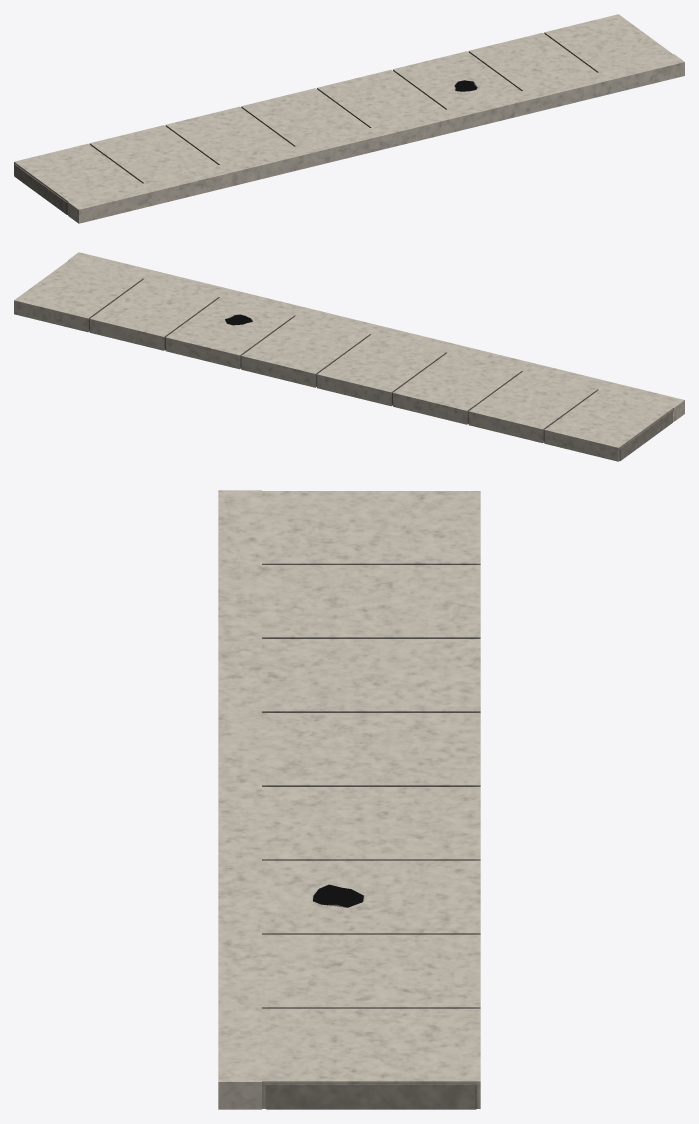
File: street_curb.fbx
The picture shows the model from 3 angles, top to bottom: view 1: azimuth 30°, elevation 25°; view 2: azimuth 150°, elevation 25°; view 3: azimuth 270°, elevation 25°; orthographic projection. The views are drawn at different scales.
Parts seen in each view (by area): view 1: Body; view 2: Body; view 3: Body.
Boxes of the visible parts, bbox=[...] form: Body: bbox=[14, 14, 684, 223]; Body: bbox=[14, 252, 684, 461]; Body: bbox=[218, 490, 480, 1109].
Size of the model in its own units: 32 by 0.71 by 6.
1 material, 1 textured.
